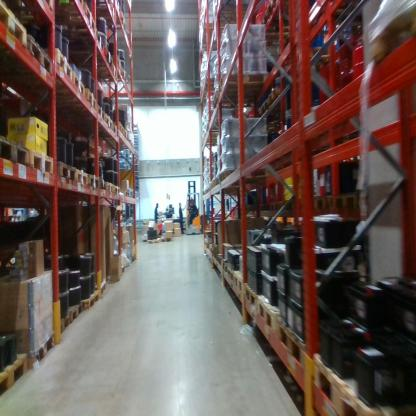forklift: (184, 175, 202, 240)
pallet: (308, 350, 413, 413), (366, 5, 415, 69), (23, 3, 100, 43), (272, 318, 314, 383), (218, 70, 272, 102), (39, 86, 99, 112), (38, 67, 85, 100), (211, 84, 265, 112), (1, 1, 30, 52), (20, 334, 56, 375), (28, 29, 54, 84), (0, 351, 28, 402), (254, 291, 279, 340), (1, 129, 30, 170), (258, 2, 302, 24), (28, 141, 52, 177), (73, 48, 115, 68), (54, 41, 73, 85), (81, 62, 118, 84), (76, 33, 106, 55), (91, 4, 117, 29), (89, 122, 121, 142), (58, 157, 77, 187), (243, 282, 258, 312), (82, 291, 100, 311), (66, 302, 82, 324), (76, 163, 89, 187), (115, 11, 129, 33), (88, 168, 100, 192), (53, 317, 68, 336), (234, 270, 244, 296), (105, 172, 115, 196), (143, 235, 173, 243), (116, 118, 126, 141), (97, 171, 107, 193), (104, 107, 113, 131), (93, 281, 108, 295), (113, 182, 123, 200), (97, 105, 106, 124), (147, 236, 160, 248), (124, 127, 132, 145), (227, 265, 234, 283), (221, 259, 228, 274), (217, 251, 222, 267), (125, 186, 130, 199)
